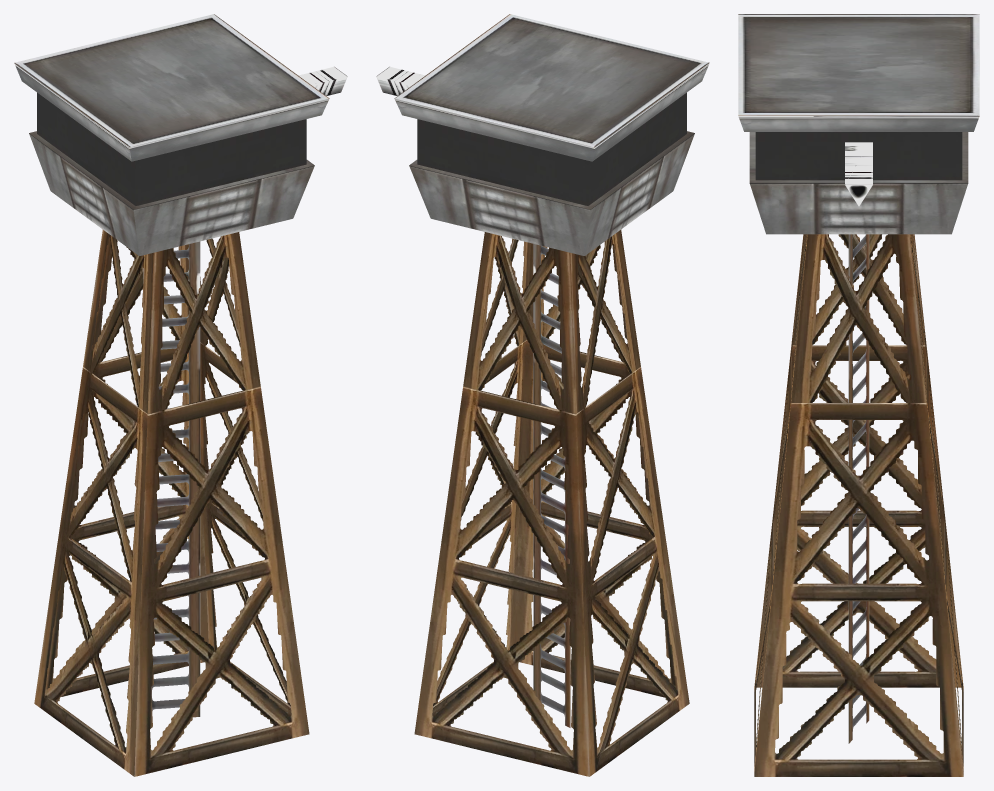
The model's file is guntower_hdtex.glb.
3 renders of one model, left to right at view 1: azimuth 30°, elevation 25°; view 2: azimuth 150°, elevation 25°; view 3: azimuth 270°, elevation 25°, orthographic. The views are drawn at different scales.
Parts seen in each view (by area): view 1: Base, Turret; view 2: Base, Turret; view 3: Base, Turret.
Boxes of the visible parts, x1,y1,x2,y2 form: Base: [14, 14, 329, 776]; Turret: [298, 66, 347, 95]; Base: [394, 14, 709, 776]; Turret: [376, 66, 425, 95]; Base: [738, 14, 979, 776]; Turret: [845, 142, 872, 206].
Bounding box in the file's own units: 5.1 × 11.56 × 3.79.
Materials: 1 (1 with a texture image).
